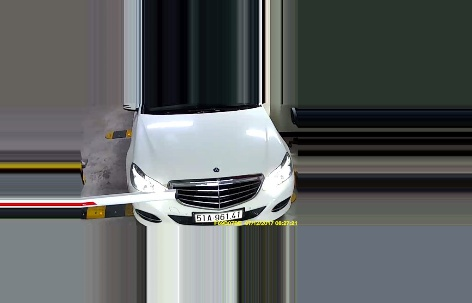plate: (191, 209, 246, 222)
